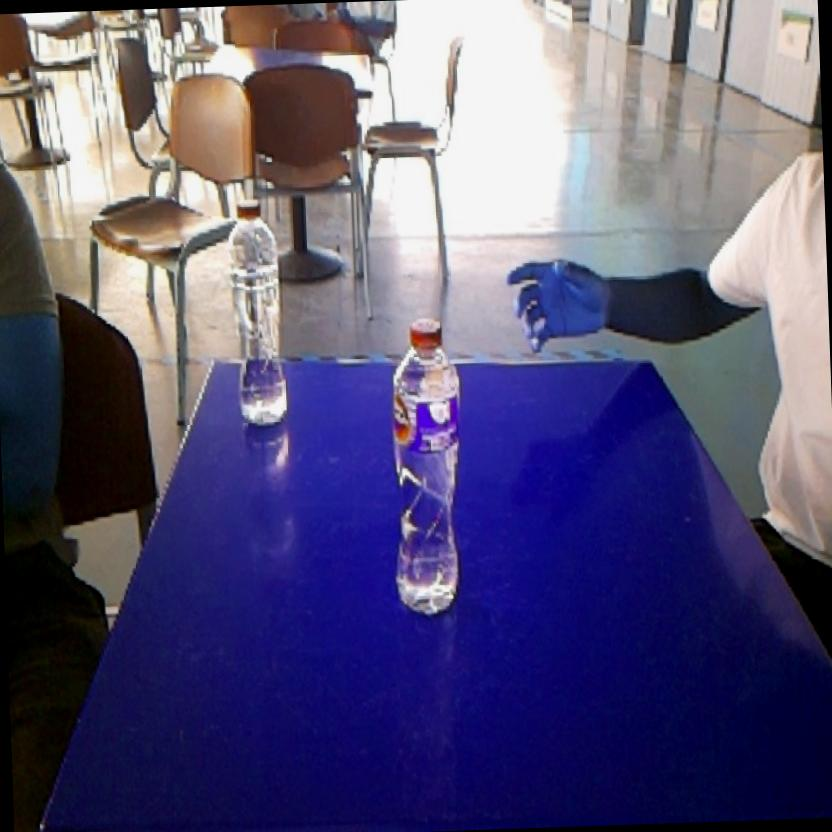good: (373, 308, 478, 626)
no_label: (214, 192, 298, 444)
